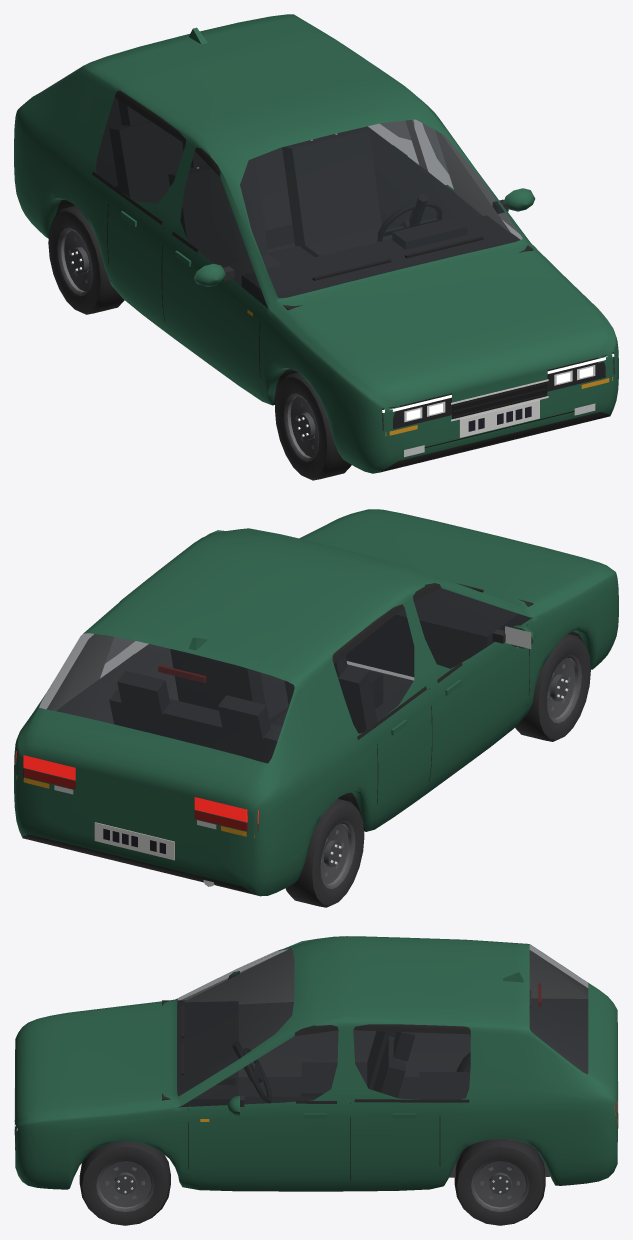
File: hatchback_green.glb
3 views of the same model, one above another, from view 1: azimuth 30°, elevation 25°; view 2: azimuth 150°, elevation 25°; view 3: azimuth 270°, elevation 25° (orthographic). The views are drawn at different scales.
Visible parts, largest first — view 1: hatchback_green_body, Wheel_RR, Wheel_FR; view 2: hatchback_green_body, Wheel_RR, Wheel_FR; view 3: hatchback_green_body, Wheel_RL, Wheel_FL.
Boxes of the visible parts, x1=… form: hatchback_green_body: x1=14, y1=14, x2=618, y2=473; Wheel_RR: x1=48, y1=205, x2=124, y2=314; Wheel_FR: x1=275, y1=372, x2=351, y2=480; hatchback_green_body: x1=14, y1=509, x2=618, y2=896; Wheel_RR: x1=285, y1=799, x2=364, y2=907; Wheel_FR: x1=515, y1=634, x2=590, y2=741; hatchback_green_body: x1=14, y1=936, x2=618, y2=1191; Wheel_RL: x1=454, y1=1138, x2=545, y2=1225; Wheel_FL: x1=79, y1=1141, x2=170, y2=1225.
Size of the model in its own units: 0.1105 by 0.0755 by 0.2058.
Materials: 8 (1 with a texture image).
